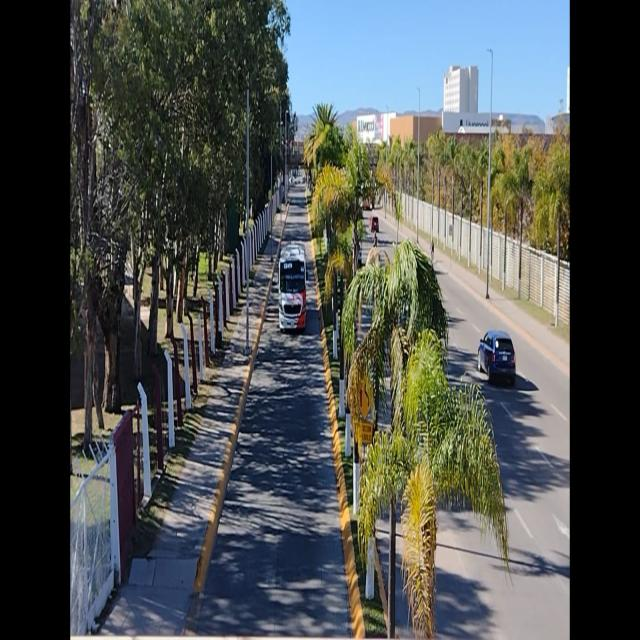Auto: (475, 321, 516, 388)
Autobus: (276, 242, 306, 334)
